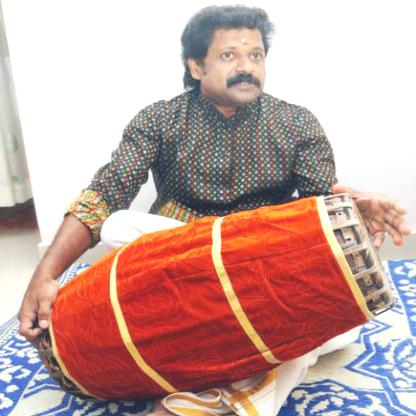Mridangam: (36, 184, 403, 408)
